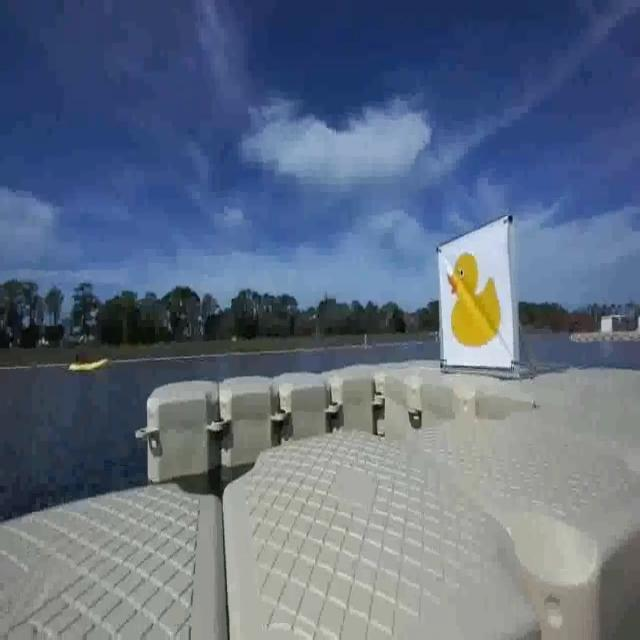yellow-duck: (441, 246, 513, 367)
